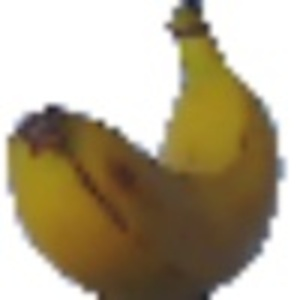banana: (13, 3, 287, 297)
